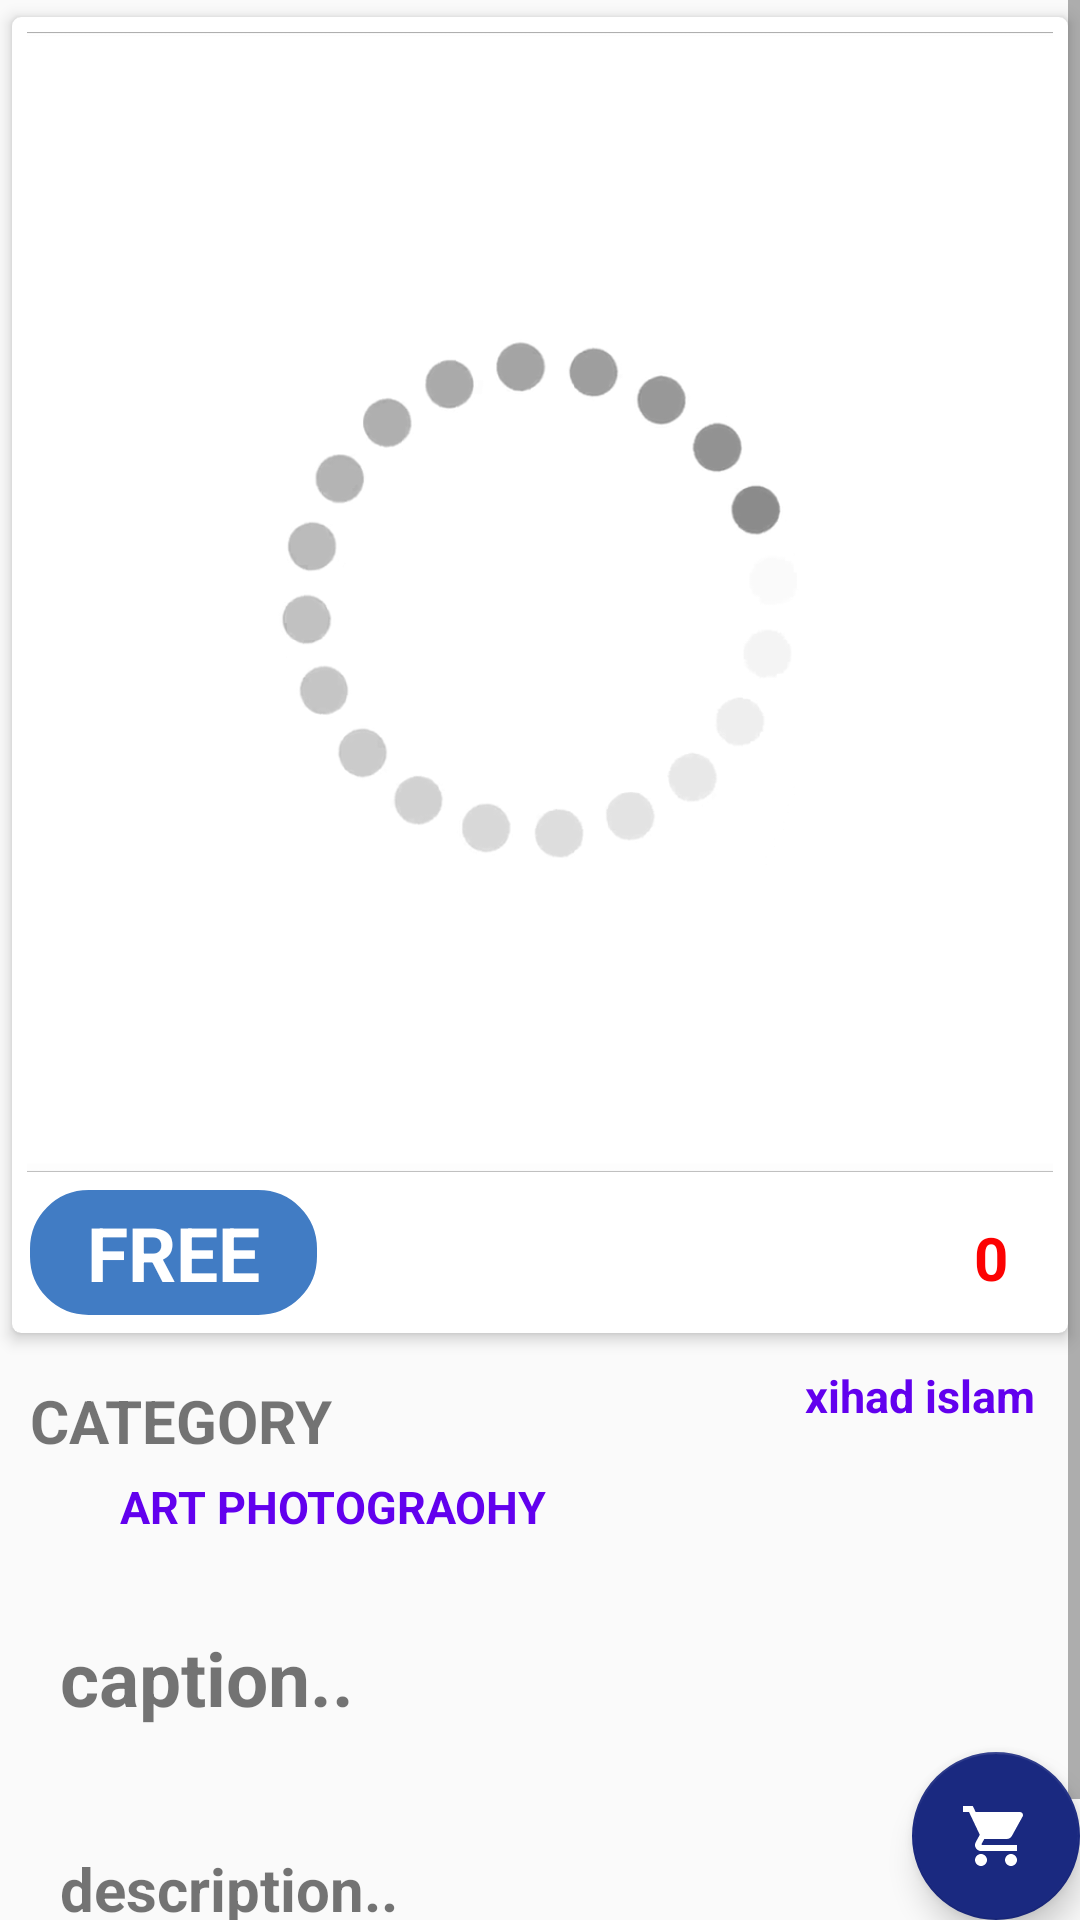

Point at icon controls on the screen. Image size 1080x1920, points as (x=x, y=y).
shopping cart: (x=996, y=1836)
